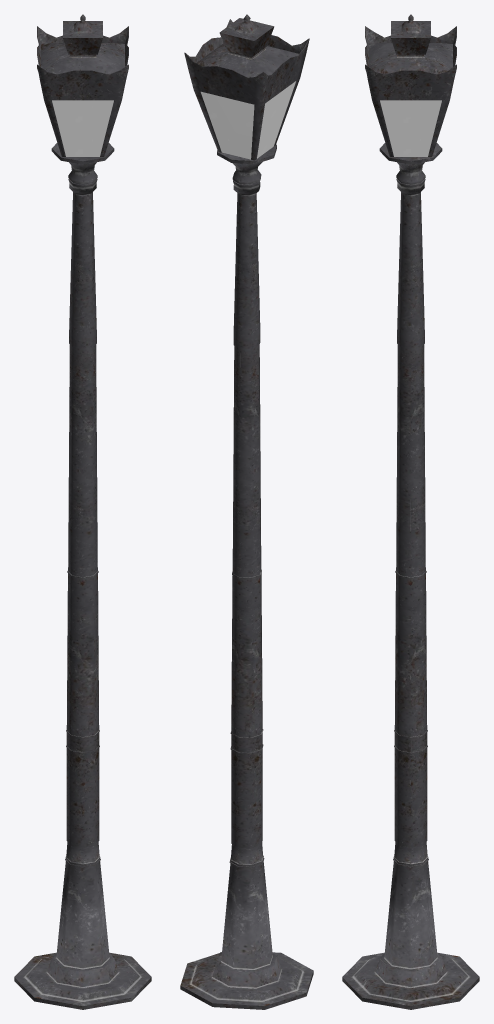
File: street-lamp.glb
3 renders of one model, left to right at view 1: azimuth 90°, elevation 25°; view 2: azimuth 150°, elevation 25°; view 3: azimuth 270°, elevation 25°, orthographic.
Parts seen in each view (by area): view 1: defaultMaterial (×3); view 2: defaultMaterial (×3); view 3: defaultMaterial (×3).
Boxes of the visible parts, <box> form: defaultMaterial (×3): <box>14,14,151,1009</box>; defaultMaterial (×3): <box>180,14,313,1009</box>; defaultMaterial (×3): <box>342,14,479,1009</box>.
Bounding box in the file's own units: 0.5805 × 4.5 × 0.5805.
3 materials, 3 textured.
